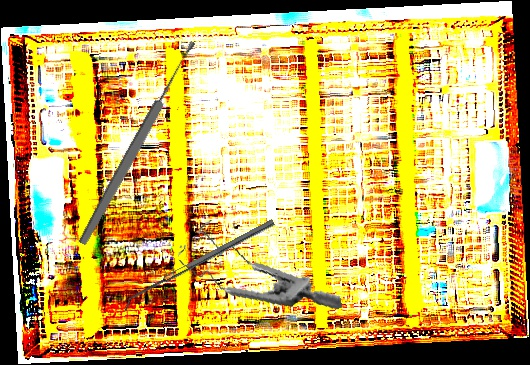Spatula Surgical: (119, 219, 278, 312)
Speculum: (172, 200, 343, 335)
Surgical Spoon: (76, 39, 200, 247)
